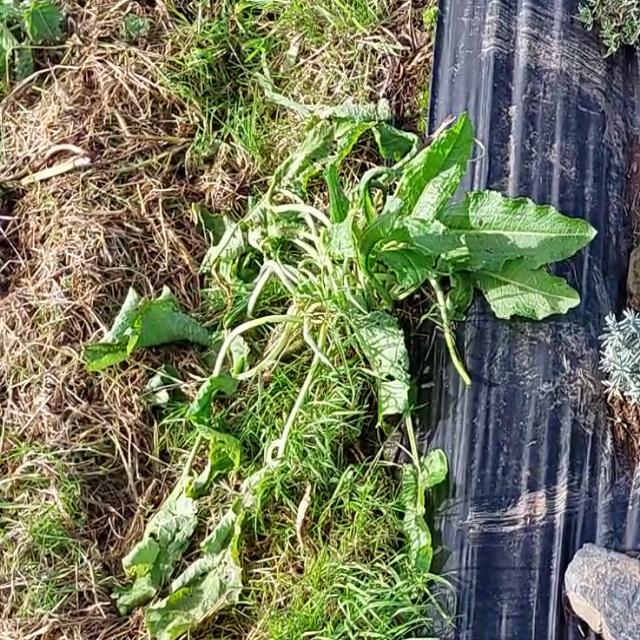organic waste: (159, 51, 636, 363), (111, 265, 301, 618), (304, 290, 505, 606)
